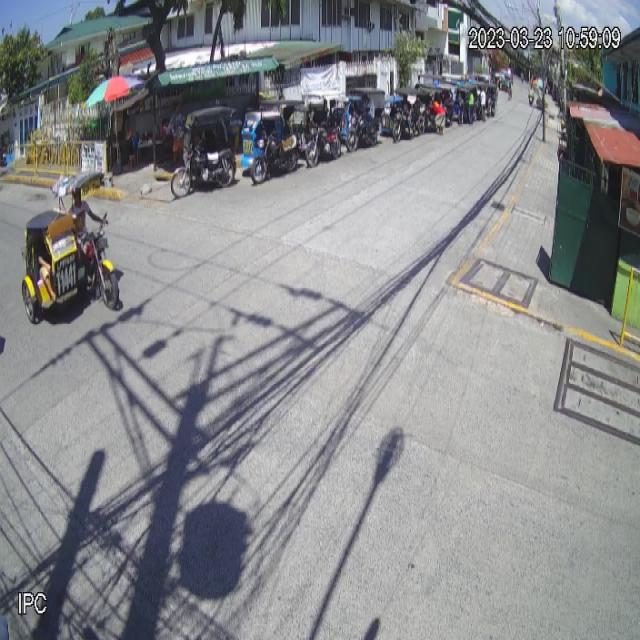Tricycle: (21, 171, 120, 324)
